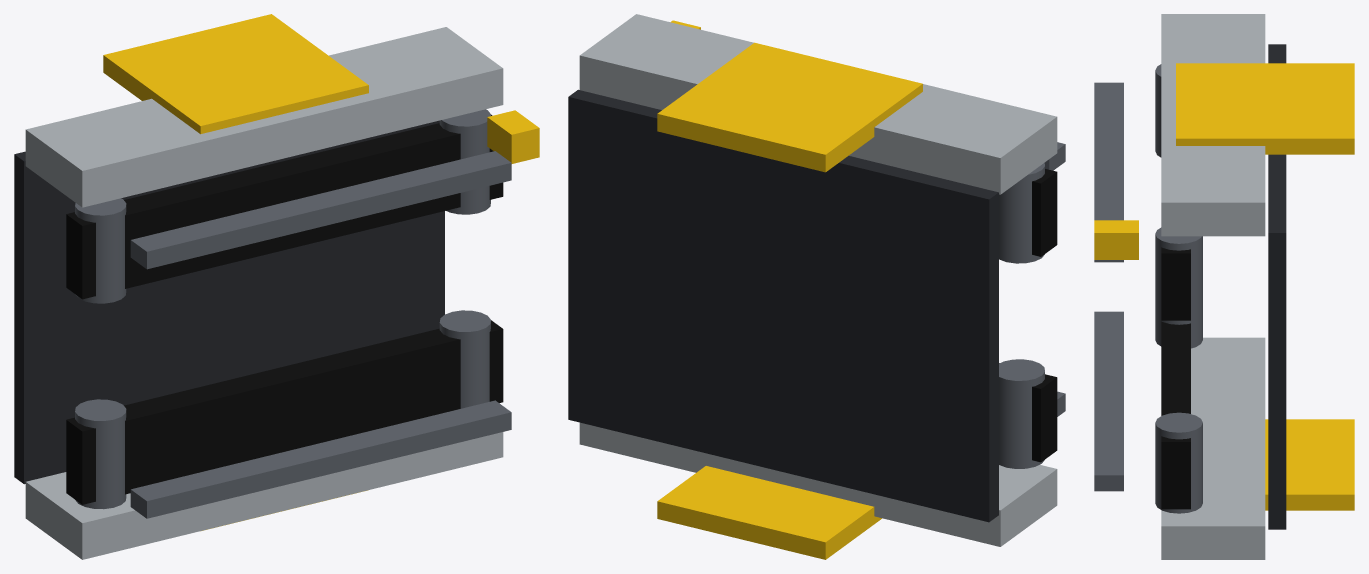
File: item_lift.obj
3 renders of one model, left to right at view 1: azimuth 30°, elevation 25°; view 2: azimuth 150°, elevation 25°; view 3: azimuth 270°, elevation 25°, orthographic. The views are drawn at different scales.
Visible parts, largest first — view 1: item_lift; view 2: item_lift; view 3: item_lift.
Boxes of the visible parts, x1,y1,x2,y2 form: item_lift: (14,14,539,559); item_lift: (568,14,1065,559); item_lift: (1094,14,1354,559).
Bounding box in the file's own units: 0.3 × 0.276 × 0.175.
Materials: 1 (1 with a texture image).
